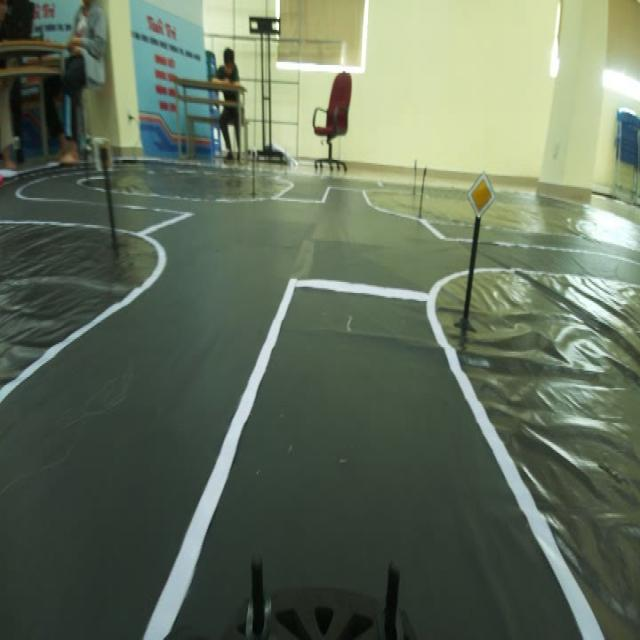priority: (462, 170, 499, 221)
